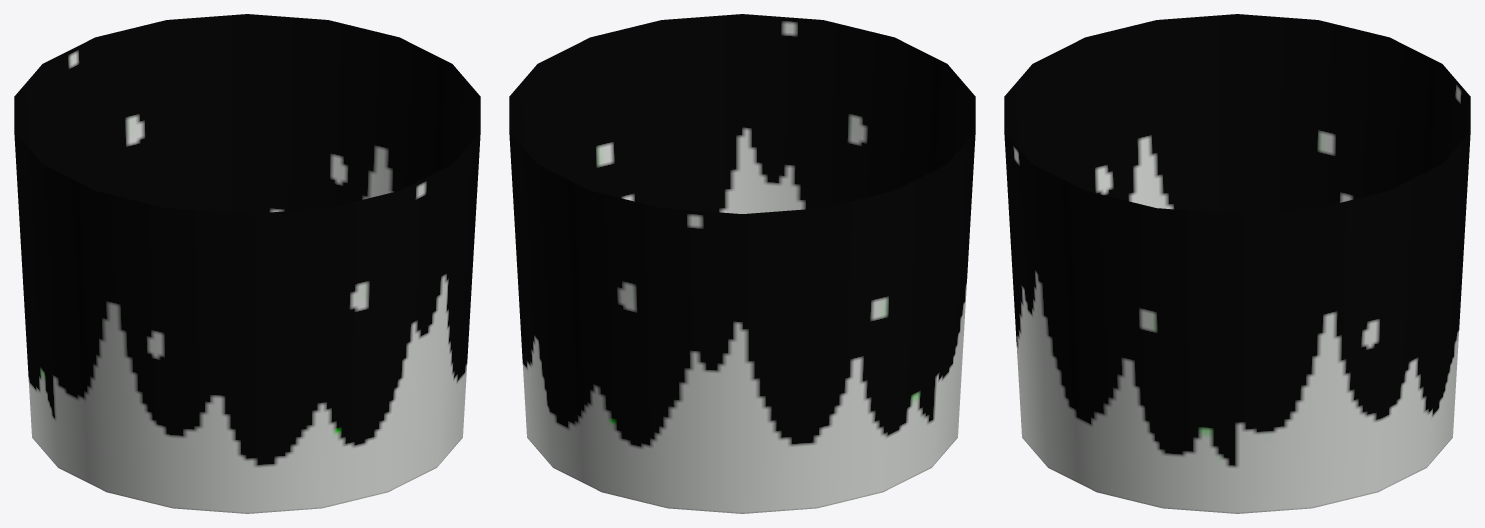
Rendered from huan1.FBX.
3 views of the same model, side by side, from view 1: azimuth 30°, elevation 25°; view 2: azimuth 150°, elevation 25°; view 3: azimuth 270°, elevation 25° (orthographic).
Visible parts, largest first — view 1: Cylinder001; view 2: Cylinder001; view 3: Cylinder001.
Part boxes in pixels (x1,y1,x2,y2): Cylinder001: (14, 14, 480, 513); Cylinder001: (509, 14, 975, 513); Cylinder001: (1004, 14, 1470, 513).
Bounding box in the file's own units: 2.09 × 2.06 × 1.5.
